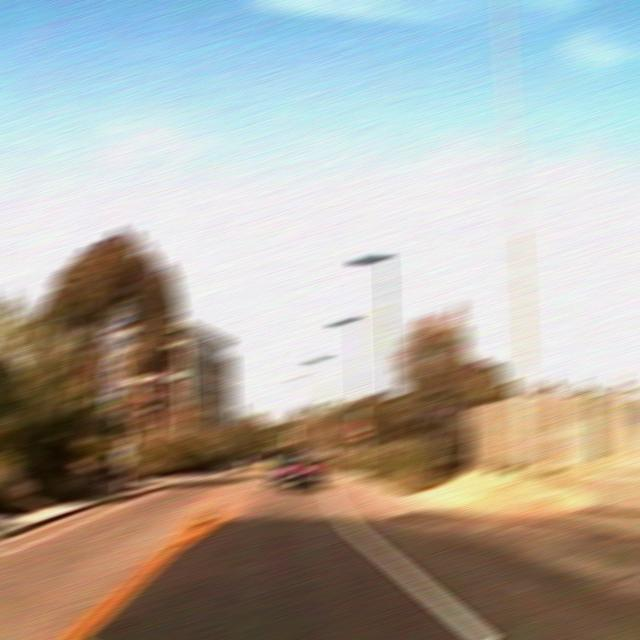stop_sign: (349, 422, 368, 437)
